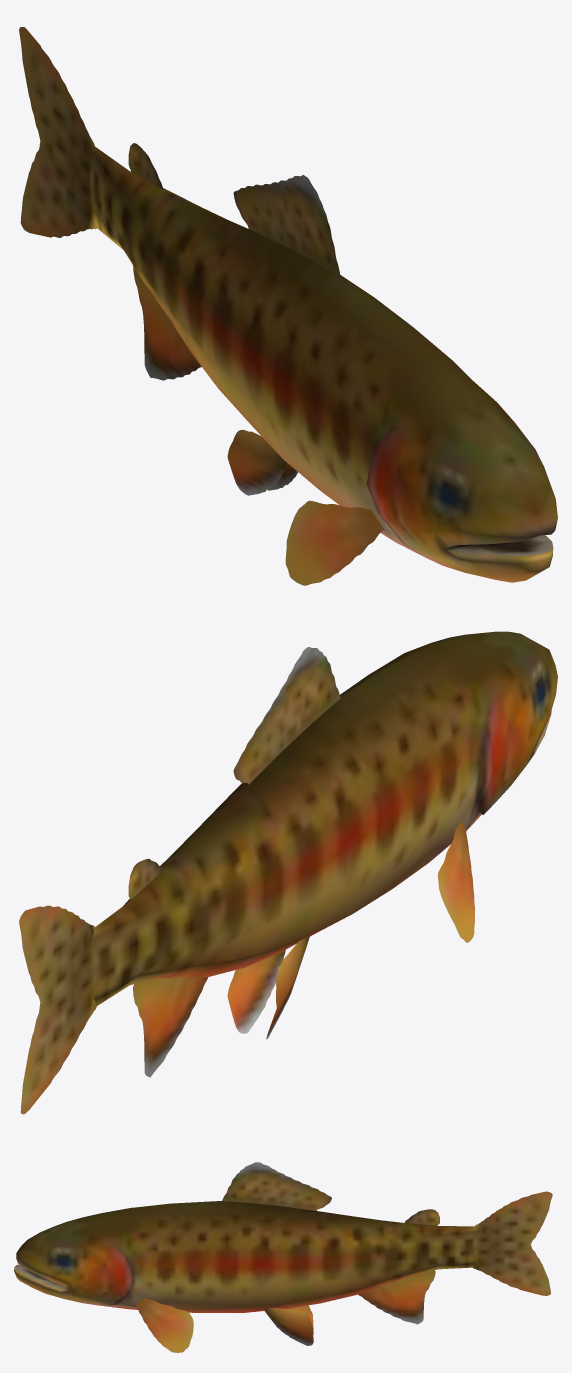
File: golden-trout.glb
The picture shows the model from 3 angles, top to bottom: view 1: azimuth 30°, elevation 25°; view 2: azimuth 150°, elevation 25°; view 3: azimuth 270°, elevation 25°; orthographic projection. The views are drawn at different scales.
Bounding box in the file's own units: 1.58 × 3.05 × 7.92.
Materials: 1 (1 with a texture image).
